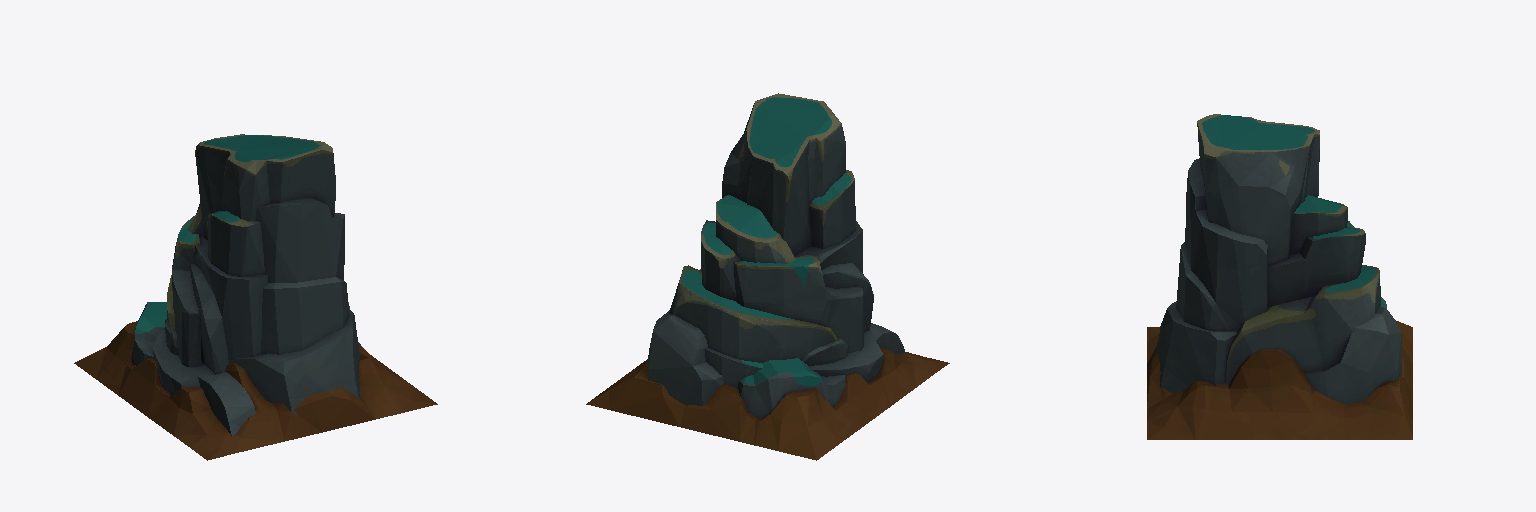
The picture shows the model from 3 angles: view 1: azimuth 30°, elevation 25°; view 2: azimuth 150°, elevation 25°; view 3: azimuth 270°, elevation 25°; orthographic projection.
Visible parts, largest first — view 1: OBJ_Mountain_04; view 2: OBJ_Mountain_04; view 3: OBJ_Mountain_04.
Part boxes in pixels (left/top/right/bottom): OBJ_Mountain_04: left=74, top=134, right=437, bottom=460; OBJ_Mountain_04: left=586, top=93, right=949, bottom=460; OBJ_Mountain_04: left=1147, top=114, right=1412, bottom=439.
Size of the model in its own units: 7.42 by 7.83 by 7.42.
1 materials, 1 textured.